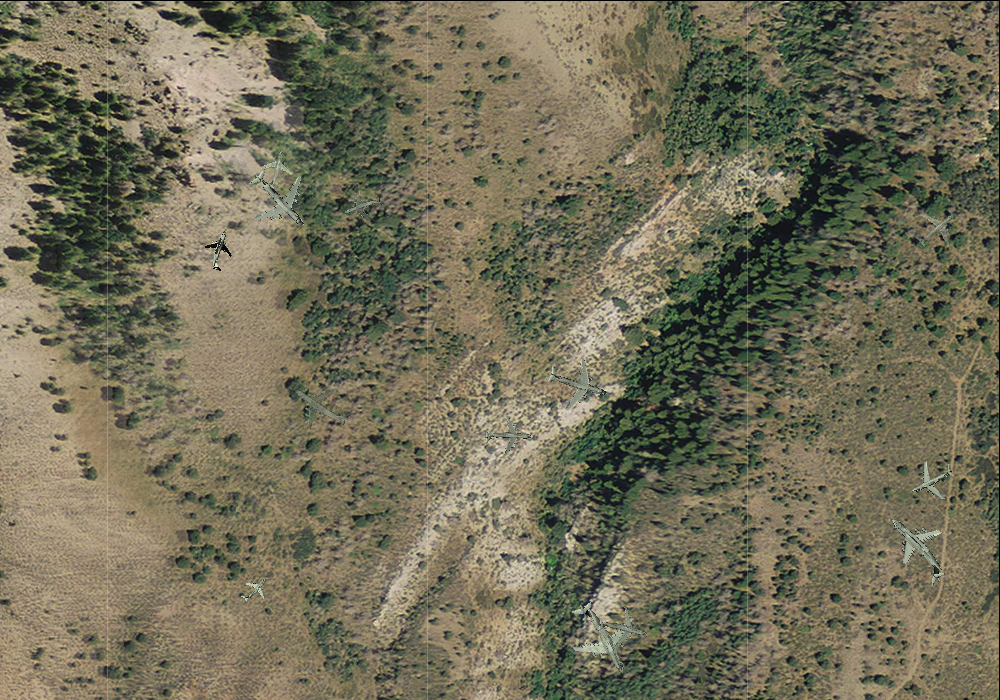plane: (550, 586, 653, 692), (867, 499, 968, 600), (231, 152, 326, 247), (280, 364, 363, 446), (539, 346, 615, 420), (906, 197, 968, 259), (902, 451, 963, 511), (592, 600, 652, 659), (196, 224, 244, 275), (338, 182, 387, 230), (483, 413, 532, 460), (252, 144, 298, 192), (234, 569, 274, 610)
